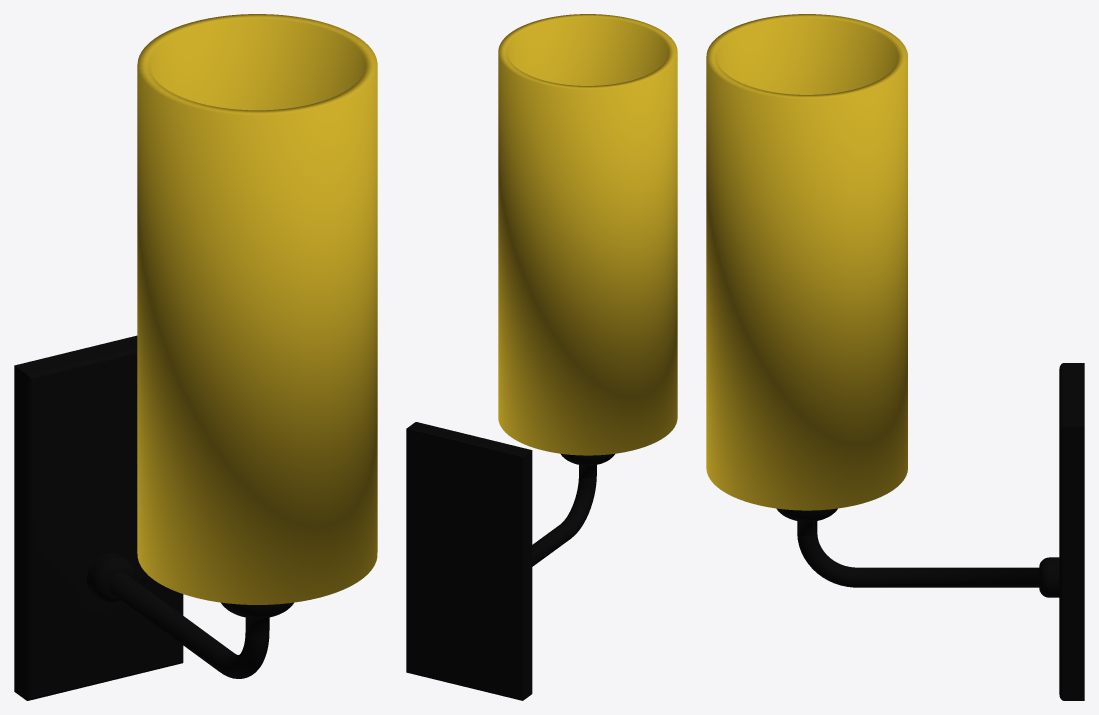
File: Outdoor_Lamp_1_FBX.FBX
3 renders of one model, left to right at view 1: azimuth 30°, elevation 25°; view 2: azimuth 150°, elevation 25°; view 3: azimuth 270°, elevation 25°, orthographic. The views are drawn at different scales.
Parts seen in each view (by area): view 1: Case, Wall Lamp Holder; view 2: Case, Wall Lamp Holder; view 3: Case, Wall Lamp Holder.
Part boxes in pixels (x1,y1,x2,y2): Case: (137,14,377,604); Wall Lamp Holder: (14,335,293,700); Case: (498,14,677,455); Wall Lamp Holder: (406,422,614,700); Case: (706,14,907,510); Wall Lamp Holder: (776,363,1084,700).
Bounding box in the file's own units: 7.87 × 26.38 × 14.76.
